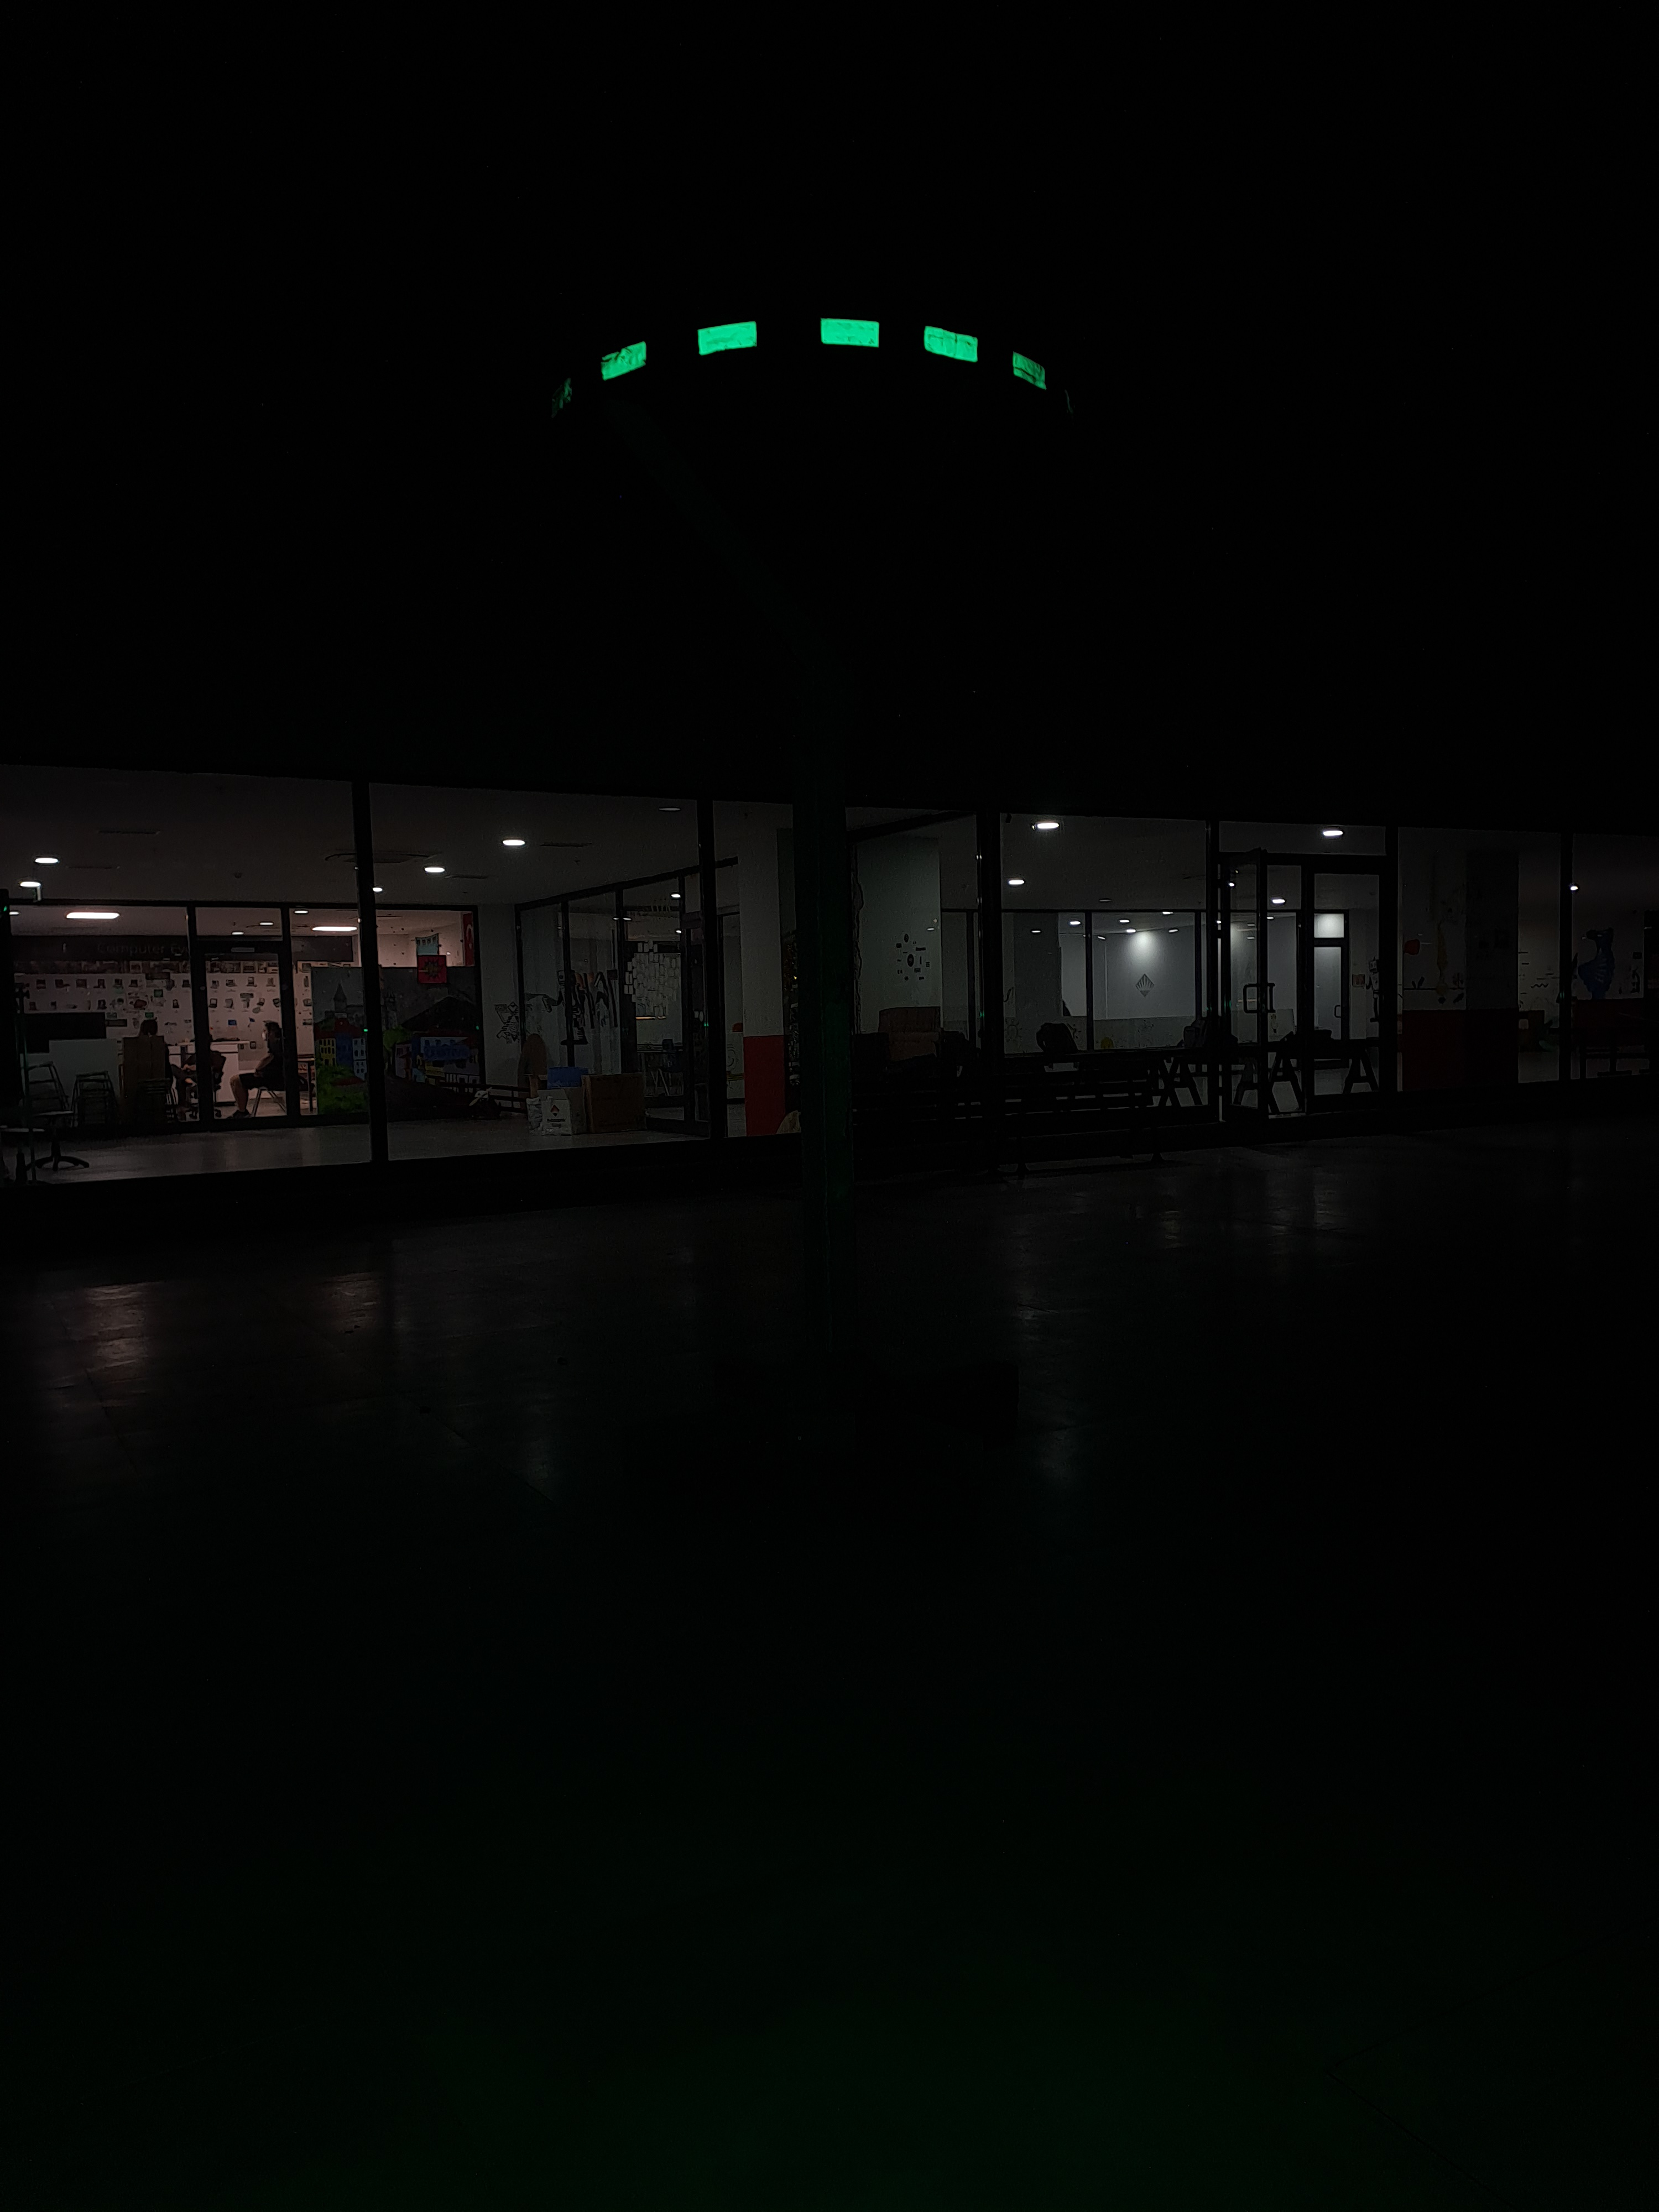hoop: (587, 307, 1049, 409)
